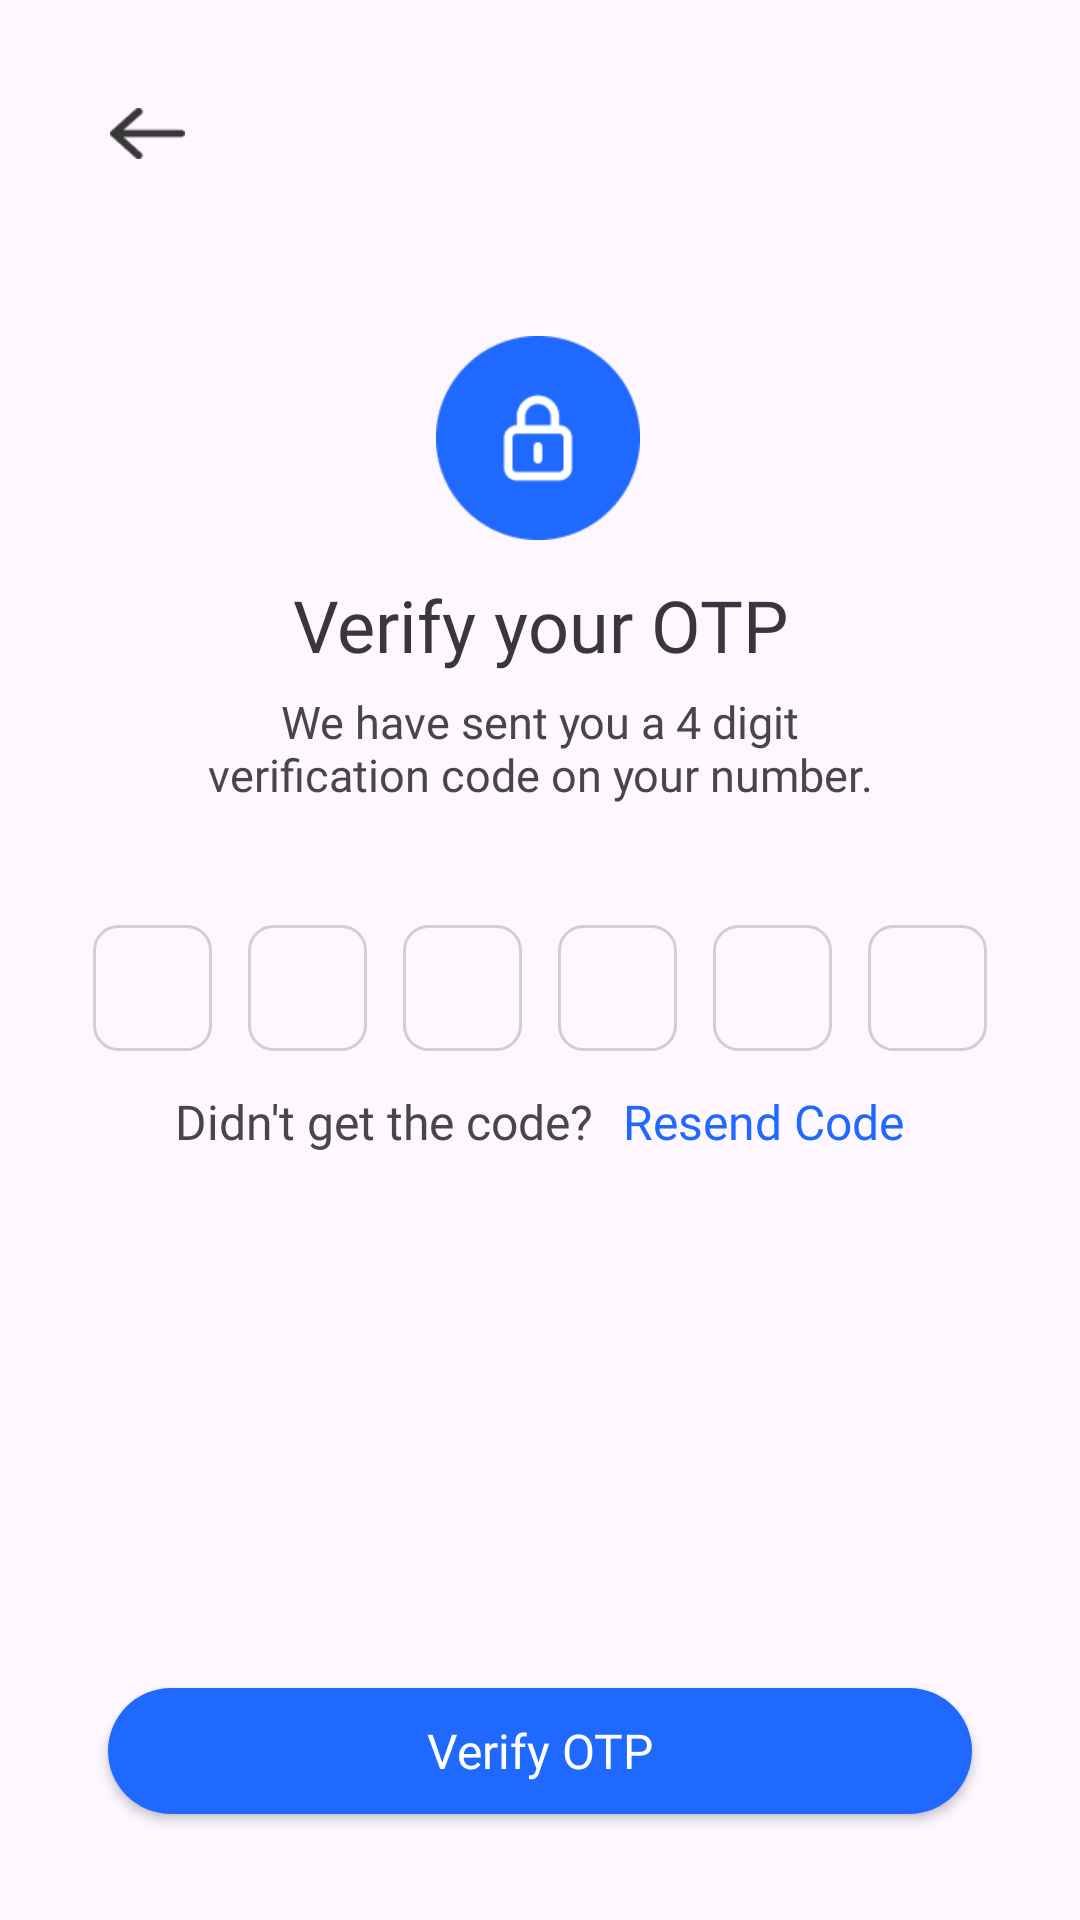

Icon click points for this 1080px×1920px phone screenshot, format (x=x, y=y):
back: (x=147, y=133)
otp lock: (x=538, y=438)
